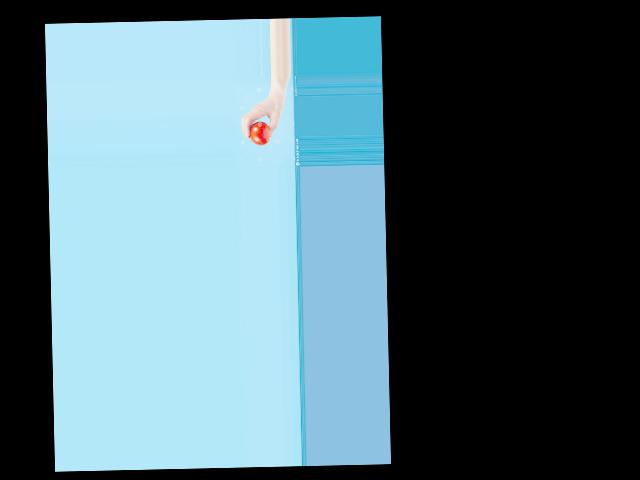tomato: (249, 121, 270, 145)
